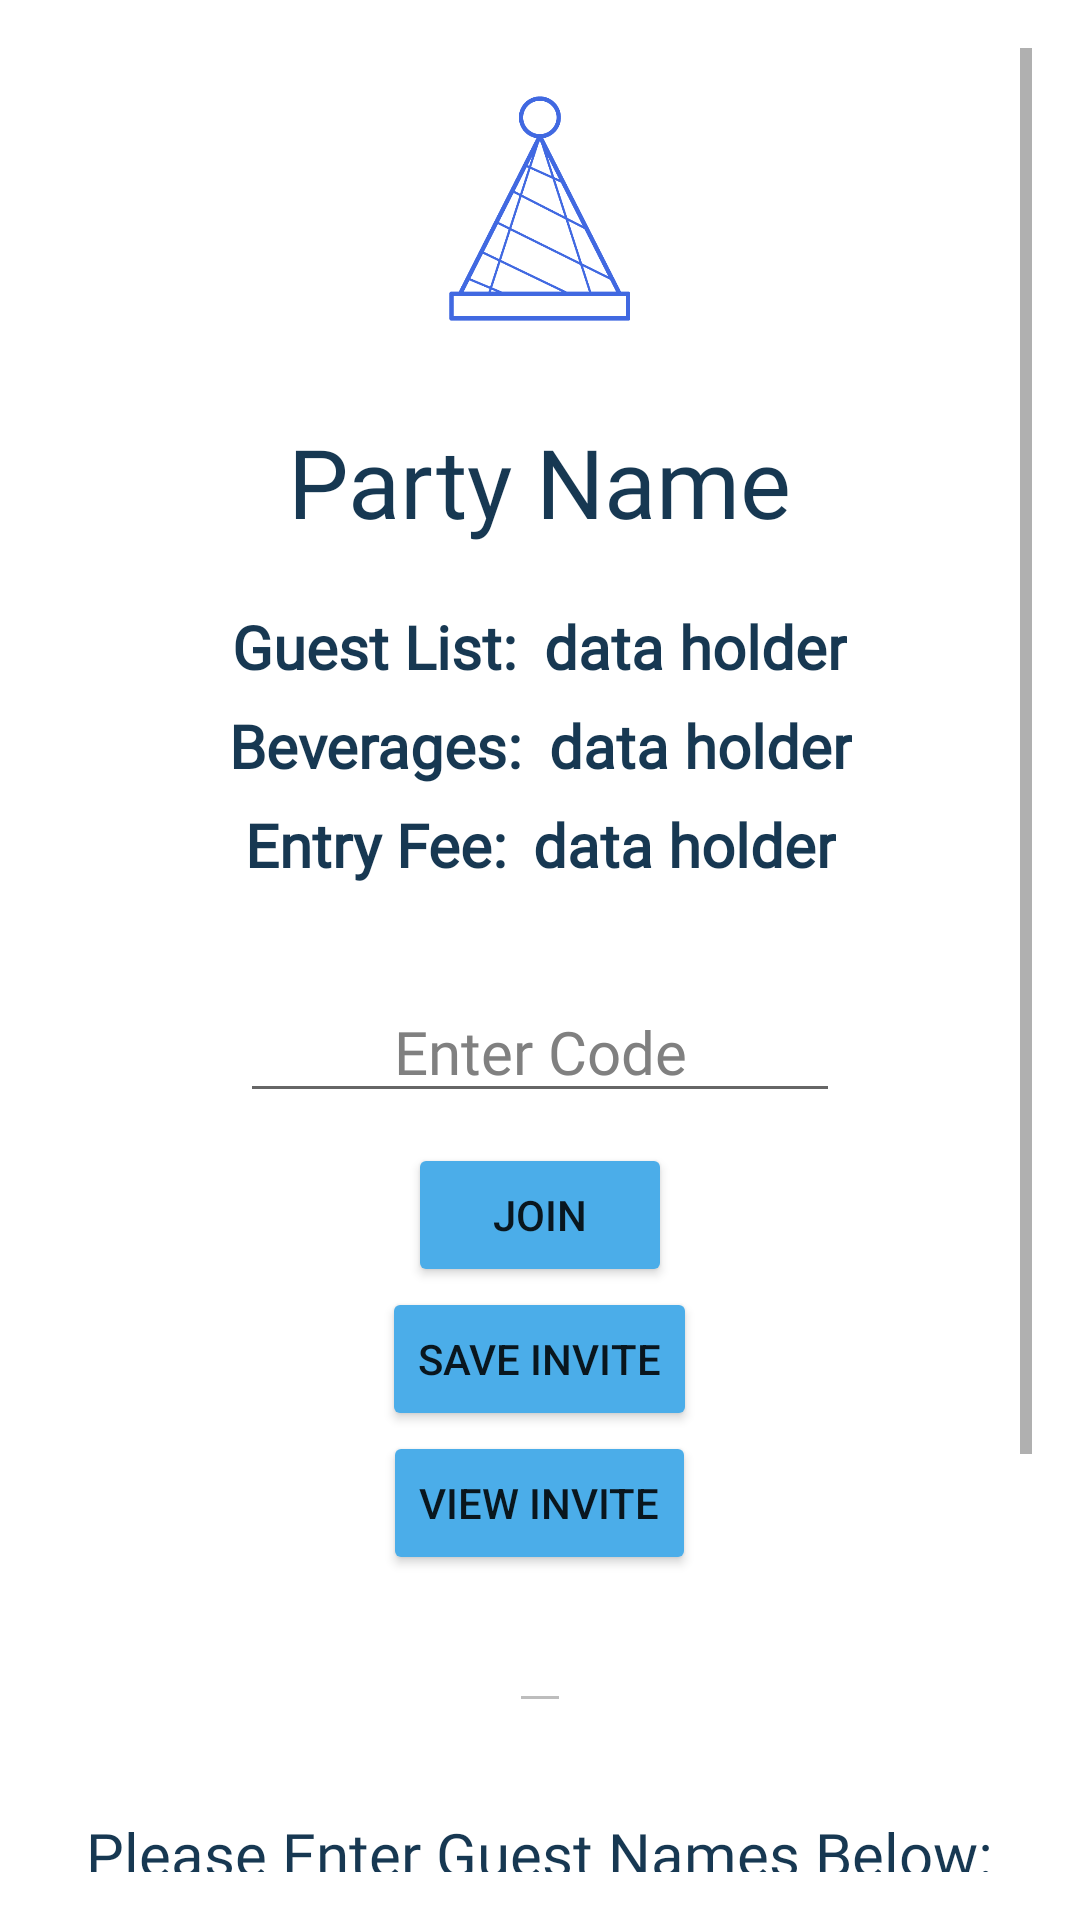

Icon bounding boxes for this 1080px x 1920px phone screenshot, format bbox=(x1, y1, x2, y2):
partyhat: bbox=(449, 96, 630, 321)
